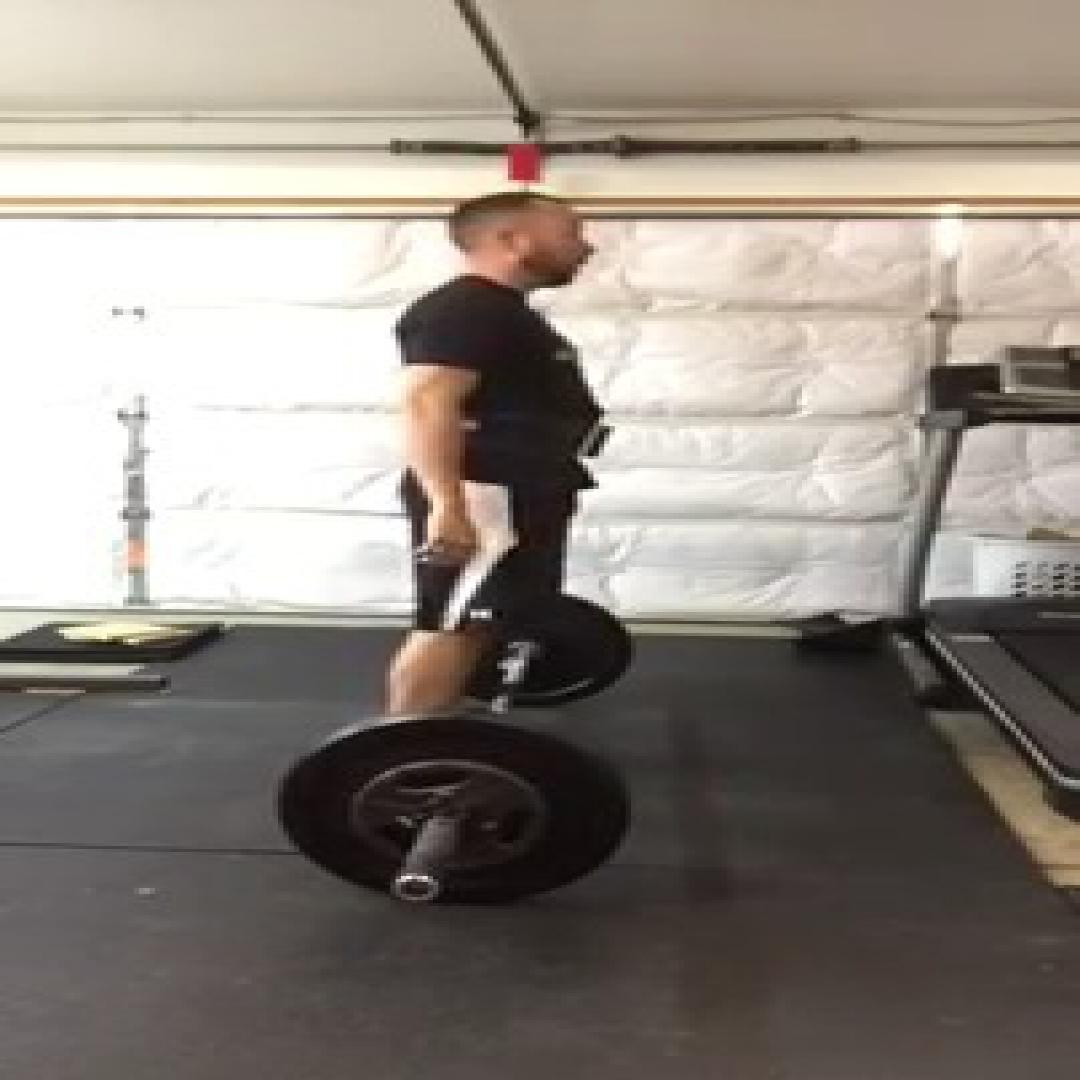Bar: (390, 873, 444, 903)
Barbell: (273, 714, 636, 906)
